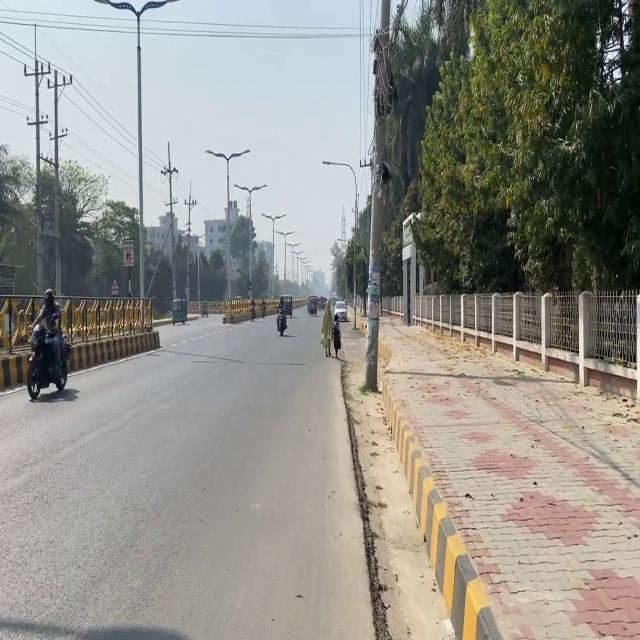Construction-barrier: (380, 374, 503, 639), (335, 355, 391, 638), (66, 329, 160, 374)
Fallen-tree: (25, 322, 72, 401), (275, 307, 287, 336)
Garbage-bin: (28, 288, 66, 379)
Light-pole: (363, 0, 392, 392)
Pothole: (343, 310, 639, 639)
Rickshaw: (122, 240, 134, 267)
